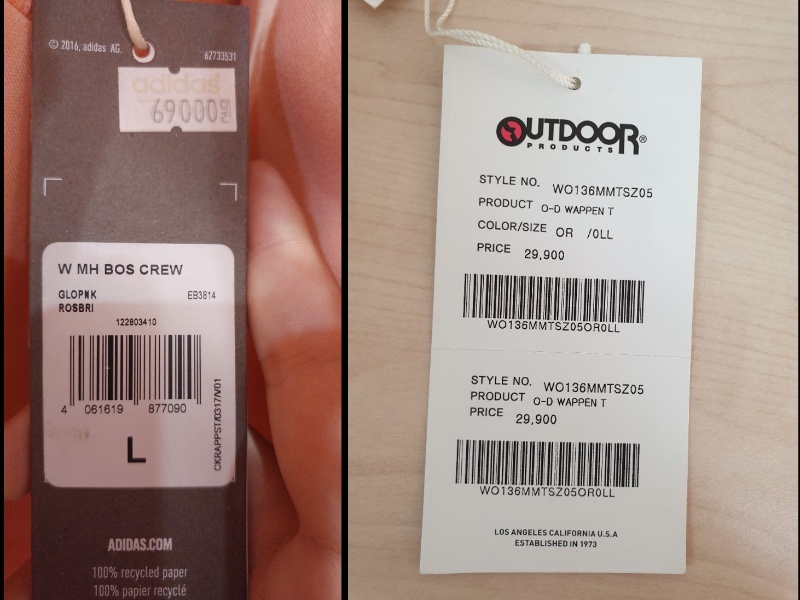tag: (420, 46, 704, 576), (33, 4, 248, 600)
text: (146, 94, 235, 127), (53, 259, 186, 280), (484, 319, 624, 337), (477, 483, 617, 501), (550, 180, 657, 201), (492, 524, 622, 540), (541, 378, 647, 397), (535, 201, 620, 220), (476, 216, 550, 237), (475, 192, 539, 214), (513, 537, 600, 552), (466, 371, 534, 390), (528, 396, 610, 411), (476, 171, 541, 189), (468, 388, 529, 405), (522, 244, 569, 265), (512, 412, 560, 429), (112, 313, 162, 329), (473, 240, 514, 257), (144, 401, 190, 415), (82, 403, 128, 416), (584, 225, 615, 244), (59, 287, 99, 301), (58, 300, 96, 314), (467, 405, 505, 419), (187, 286, 219, 302), (552, 224, 576, 242)
